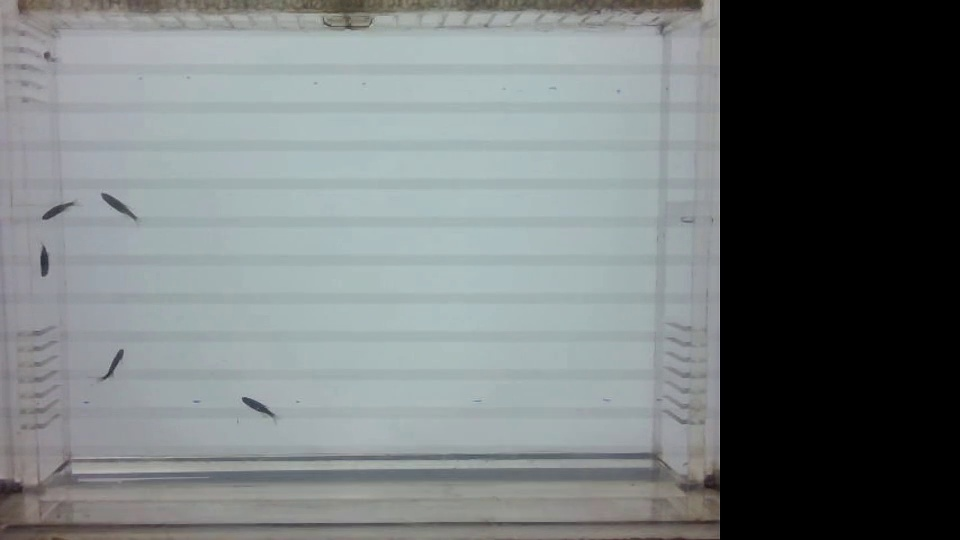fish: (100, 188, 148, 228), (232, 388, 284, 424), (92, 340, 128, 388), (33, 196, 80, 225), (25, 240, 58, 280), (36, 44, 60, 72)
